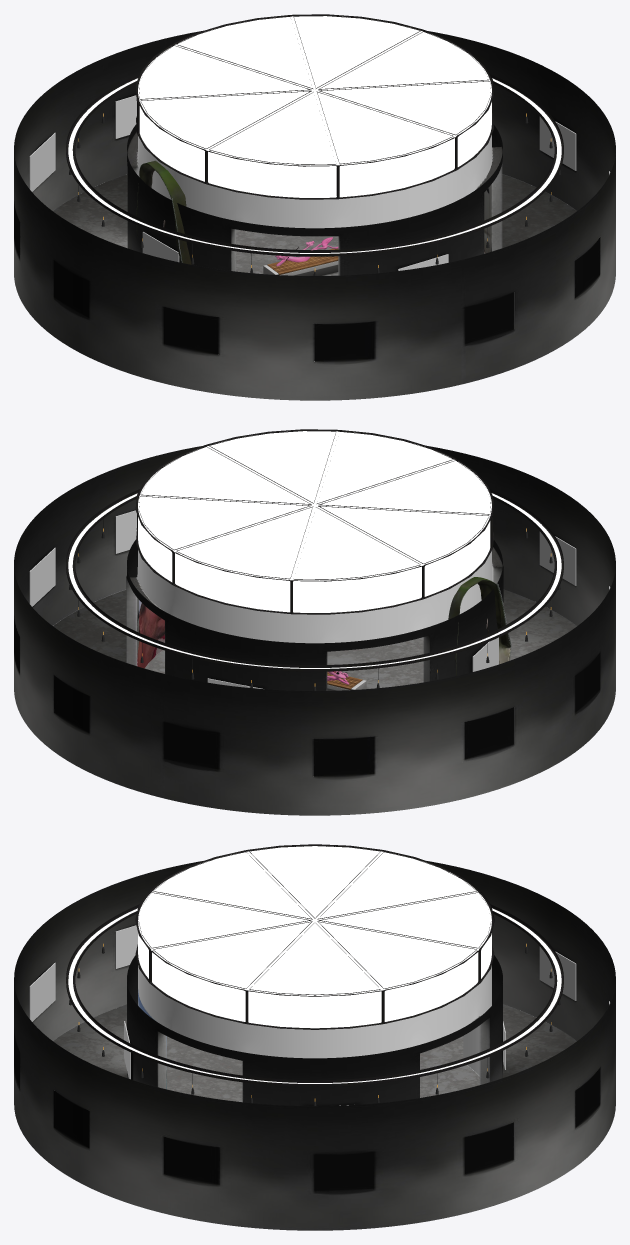
The picture shows the model from 3 angles, top to bottom: view 1: azimuth 30°, elevation 25°; view 2: azimuth 150°, elevation 25°; view 3: azimuth 270°, elevation 25°; orthographic projection.
Visible parts, largest first — view 1: Walls, LampBase, PaitingsOutside, tripo_node_d5d7a45d-0f3d-443e-a721-a52008c88198.001, CeillingWire_CeillingWire_0.005, Bench, CeillingWire_CeillingWire_0.003, PaitingsInside_001, CeillingWire_CeillingWire_0.004, CeillingWire_CeillingWire_0.006, CeillingWire_CeillingWire_0.002; view 2: Walls, LampBase, PaitingsOutside, tripo_node_d5d7a45d-0f3d-443e-a721-a52008c88198.001, CeillingWire_CeillingWire_0.005, CeillingWire_CeillingWire_0.003, CeillingWire_CeillingWire_0.004, CeillingWire_CeillingWire_0.006, PaitingsInside_001, CeillingWire_CeillingWire_0.002; view 3: Walls, LampBase, PaitingsOutside, CeillingWire_CeillingWire_0.005, CeillingWire_CeillingWire_0.002, CeillingWire_CeillingWire_0.003, CeillingWire_CeillingWire_0.006, CeillingWire_CeillingWire_0.001, CeillingWire_CeillingWire_0.004.
Boxes of the visible parts, x1,y1,x2,y2 form: Walls: (14, 16, 615, 400); LampBase: (66, 74, 563, 256); PaitingsOutside: (29, 95, 610, 361); tripo_node_d5d7a45d-0f3d-443e-a721-a52008c88198.001: (136, 160, 191, 264); CeillingWire_CeillingWire_0.005: (138, 14, 494, 166); Bench: (263, 248, 338, 275); CeillingWire_CeillingWire_0.003: (135, 45, 492, 194); PaitingsInside_001: (142, 232, 448, 270); CeillingWire_CeillingWire_0.004: (136, 14, 493, 199); CeillingWire_CeillingWire_0.006: (206, 46, 454, 149); CeillingWire_CeillingWire_0.002: (136, 17, 489, 173); Walls: (14, 431, 615, 815); LampBase: (66, 489, 563, 671); PaitingsOutside: (29, 510, 610, 743); tripo_node_d5d7a45d-0f3d-443e-a721-a52008c88198.001: (448, 577, 511, 675); CeillingWire_CeillingWire_0.005: (137, 429, 488, 581); CeillingWire_CeillingWire_0.003: (180, 433, 494, 612); CeillingWire_CeillingWire_0.004: (135, 429, 493, 614); CeillingWire_CeillingWire_0.006: (185, 433, 488, 528); PaitingsInside_001: (207, 637, 498, 688); CeillingWire_CeillingWire_0.002: (175, 431, 484, 606); Walls: (14, 846, 615, 1230); LampBase: (66, 904, 563, 1086); PaitingsOutside: (29, 925, 609, 1158); CeillingWire_CeillingWire_0.005: (150, 845, 494, 1022); CeillingWire_CeillingWire_0.002: (149, 891, 477, 988); CeillingWire_CeillingWire_0.003: (135, 844, 480, 995); CeillingWire_CeillingWire_0.006: (152, 851, 398, 970); CeillingWire_CeillingWire_0.001: (139, 851, 494, 1029); CeillingWire_CeillingWire_0.004: (135, 850, 481, 1024).
Size of the model in its own units: 892 by 300 by 892.
Materials: 20 (16 with a texture image).
